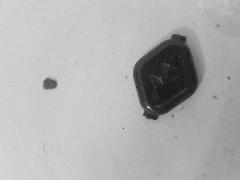electronic: (79, 100, 194, 148)
